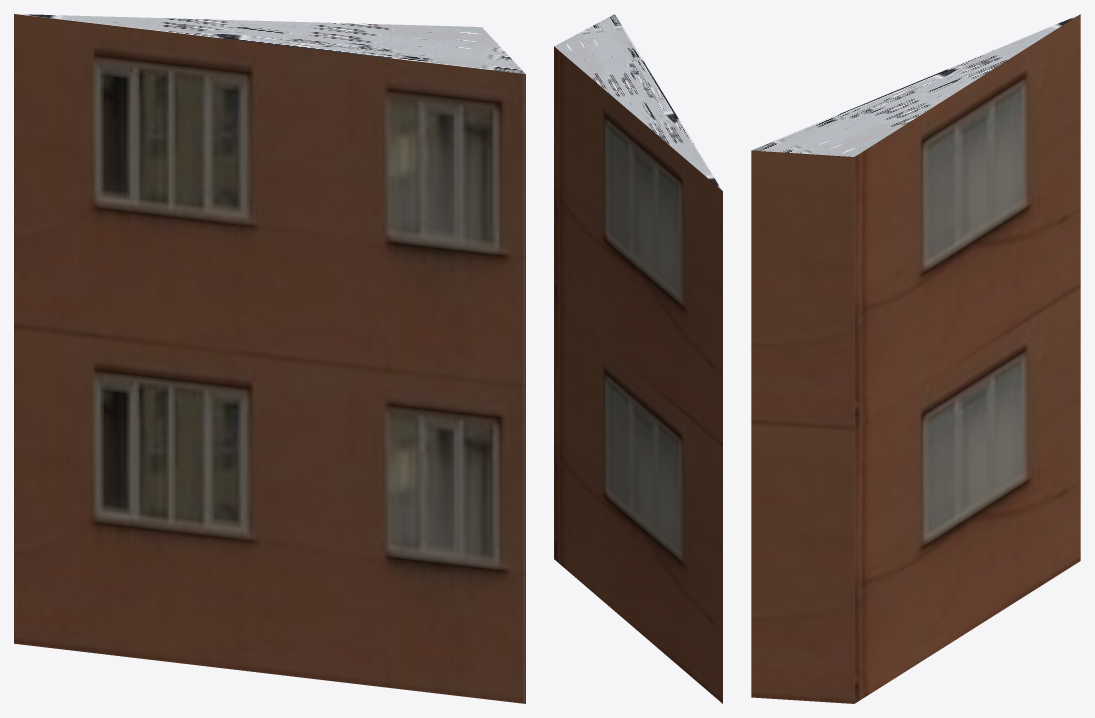
The model's file is ResTex__3625.fbx.
3 views of the same model, side by side, from view 1: azimuth 30°, elevation 25°; view 2: azimuth 150°, elevation 25°; view 3: azimuth 270°, elevation 25° (orthographic). The views are drawn at different scales.
Visible parts, largest first — view 1: CityEngineMaterial_20_m, CityEngineMaterial_m; view 2: CityEngineMaterial_20_m, CityEngineMaterial_m; view 3: CityEngineMaterial_20_m, CityEngineMaterial_m.
Part boxes in pixels (box(x1,y1,x2,y2)): CityEngineMaterial_20_m: box(14, 14, 525, 703); CityEngineMaterial_m: box(15, 14, 525, 74); CityEngineMaterial_20_m: box(554, 46, 722, 703); CityEngineMaterial_m: box(554, 14, 722, 190); CityEngineMaterial_20_m: box(751, 14, 1080, 703); CityEngineMaterial_m: box(751, 14, 1079, 156).
Bounding box in the file's own units: 3.36 × 6 × 3.28.
Materials: 2 (2 with a texture image).
